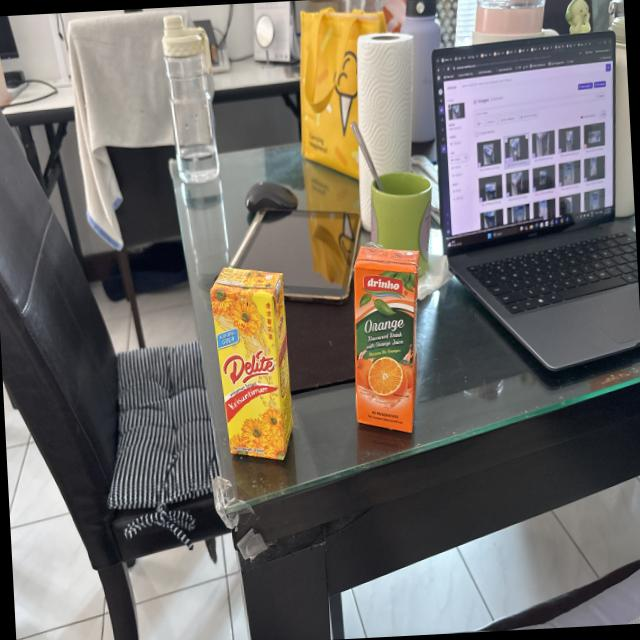drink_carton: (206, 256, 302, 475), (342, 235, 432, 447)
